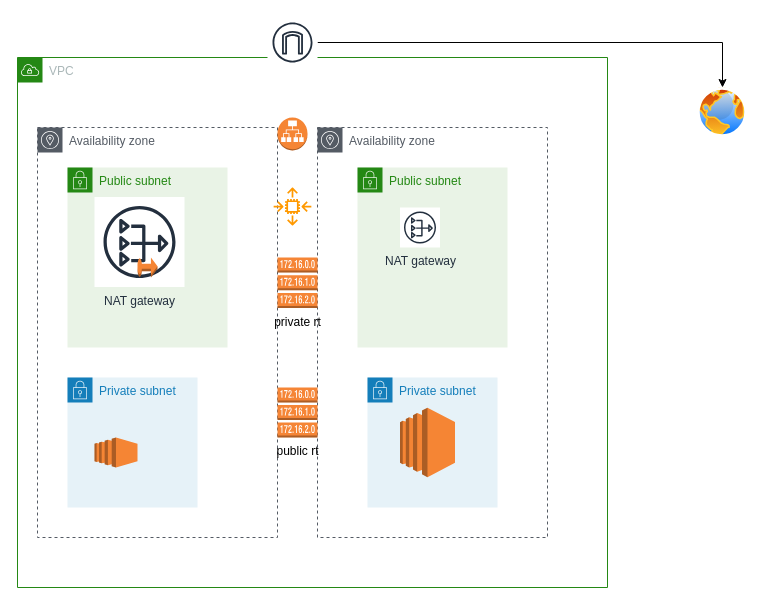
The diagram is 765 pixels wide and 605 high, and some of its shapes have lost their labels. The centre of each missing label's shape, as x and y in pixels:
"ABL" goes at (x=292, y=133).
"ASG" goes at (x=292, y=206).
"elastic IP" goes at (x=147, y=267).
"Internet gateway" goes at (x=292, y=42).
